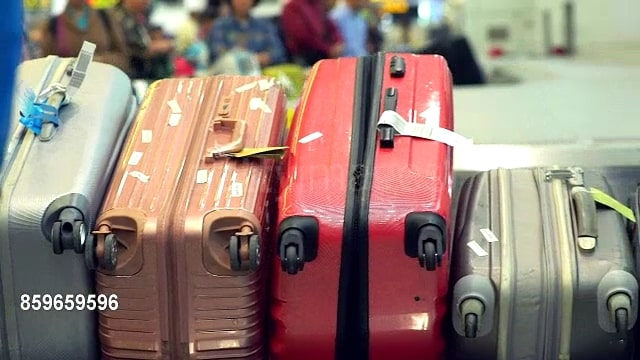baggage: (98, 60, 285, 360), (283, 51, 459, 360), (4, 58, 137, 360), (453, 164, 635, 360)
